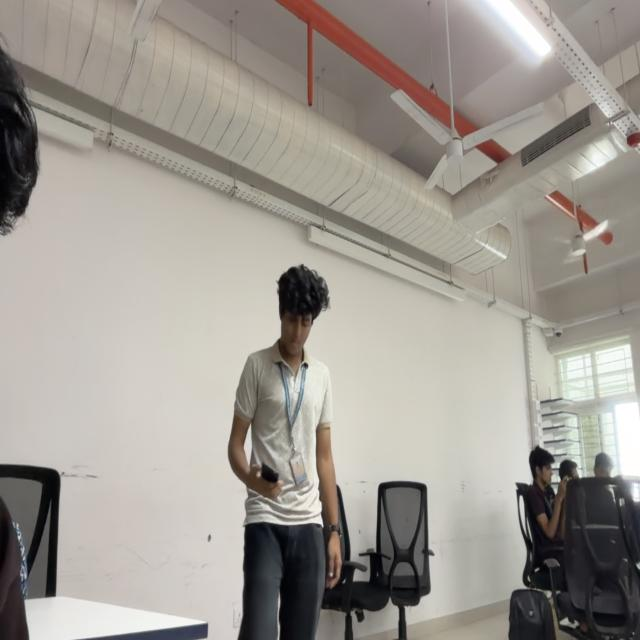kshitij: (278, 266, 329, 358)
